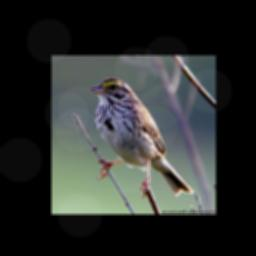Sparrow: (89, 76, 194, 198)
